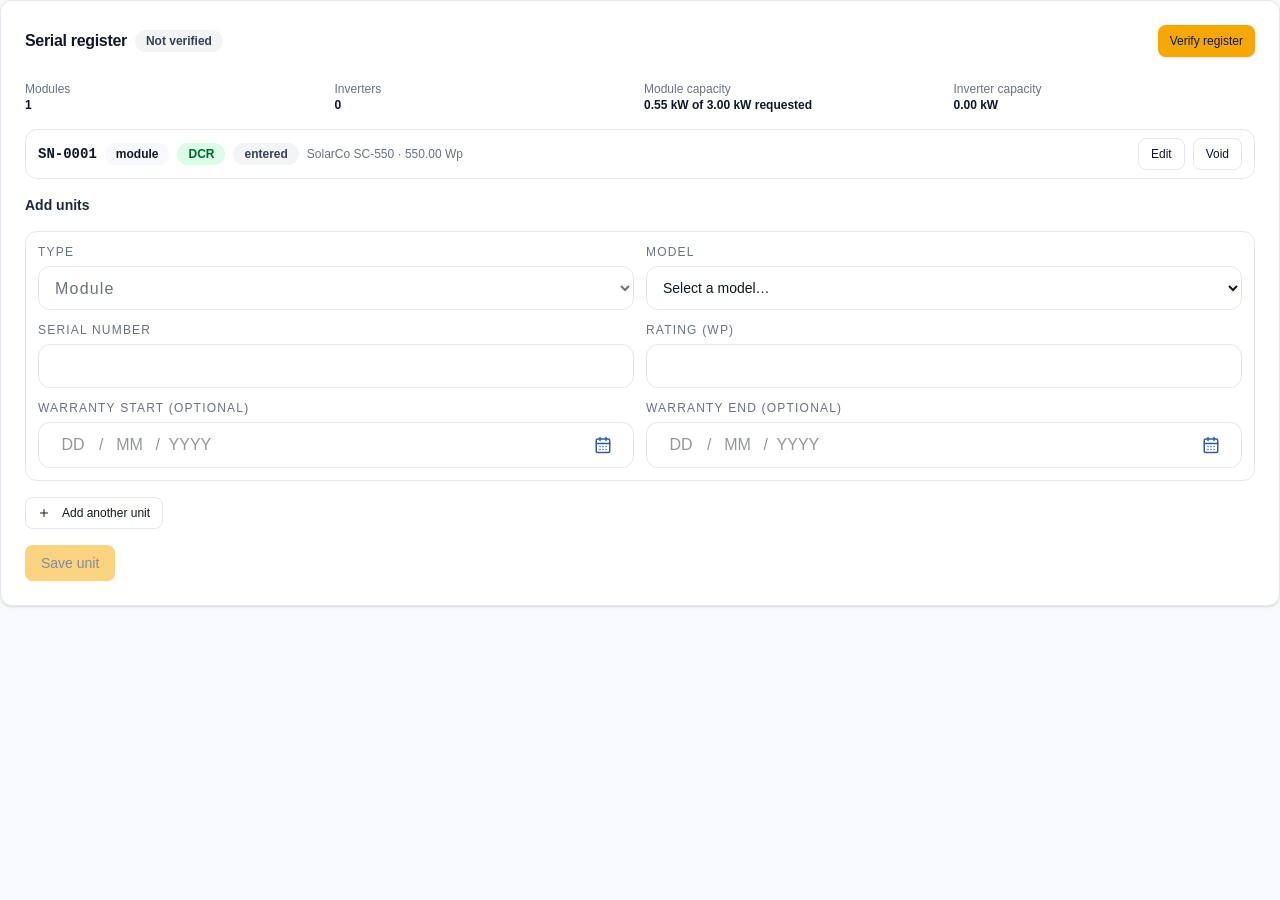
Test: RegisterPanel — duplicate check comes from the backend › checks on blur and shows the backend message and held_by exactly as returned
Type "sn-0002" into the field labelled "Serial number" at (336, 366), box [38, 344, 634, 388]
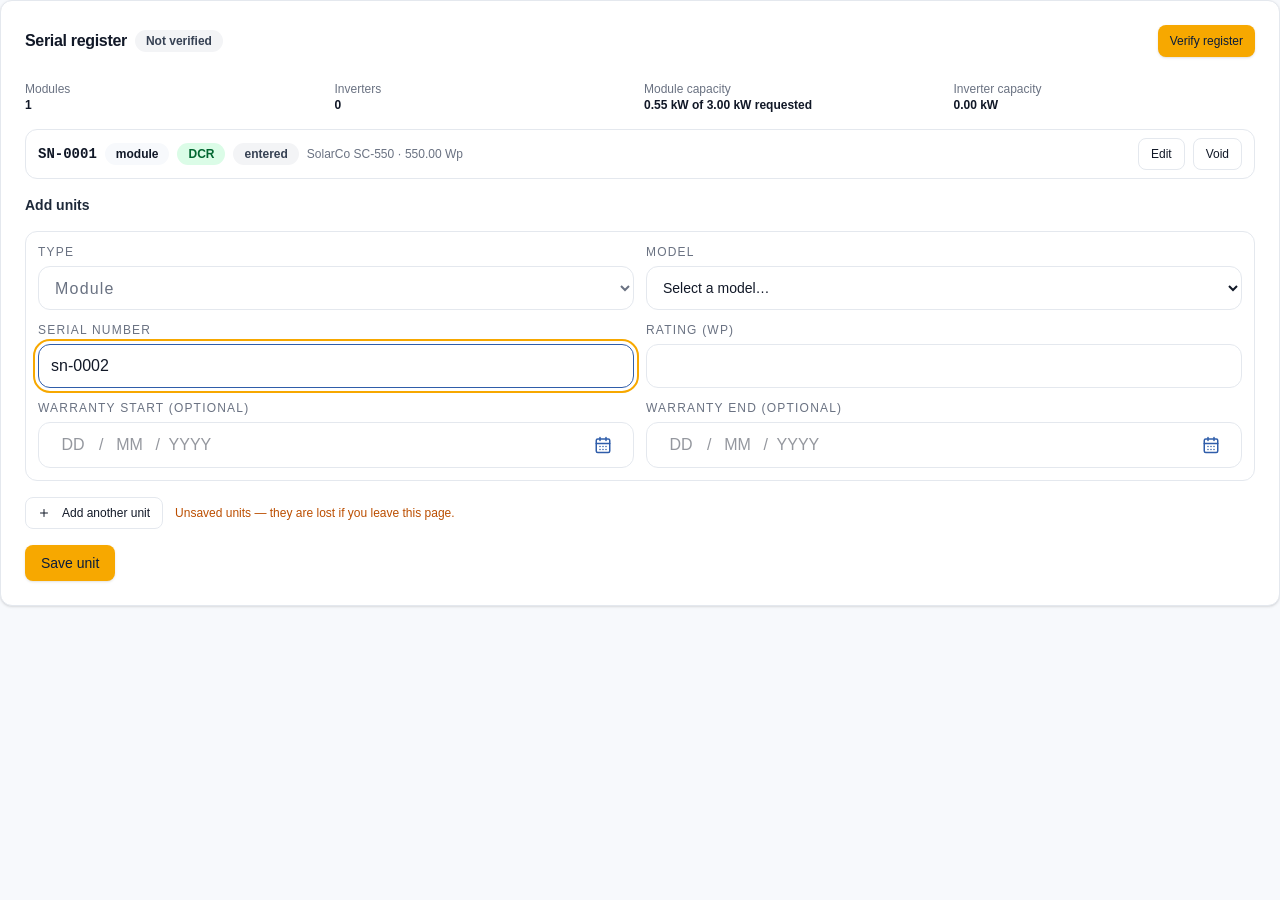
Press Tab
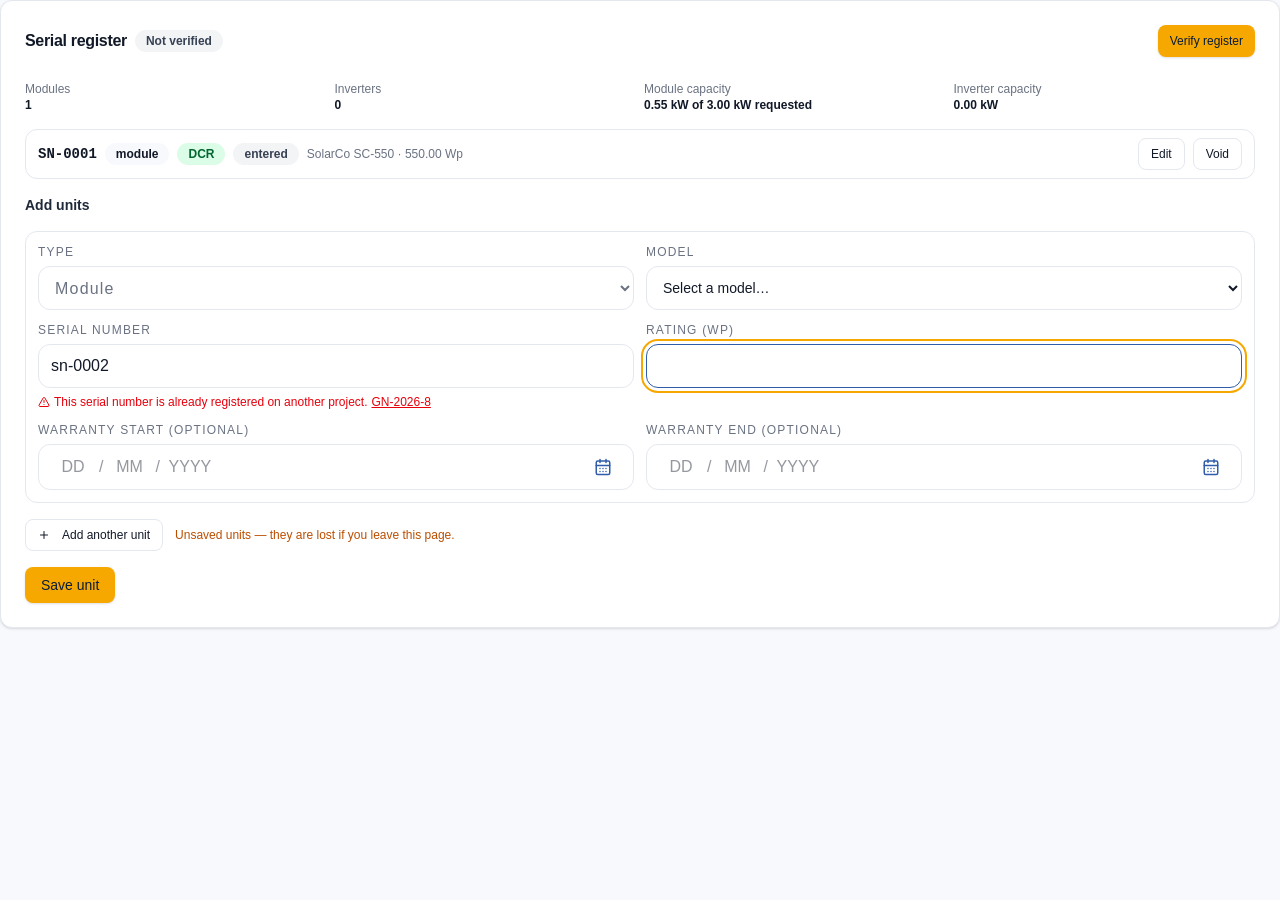
expect the element with test id "serial-check" shows "This serial number is already registered on another project.": met, box [54, 395, 368, 409]
